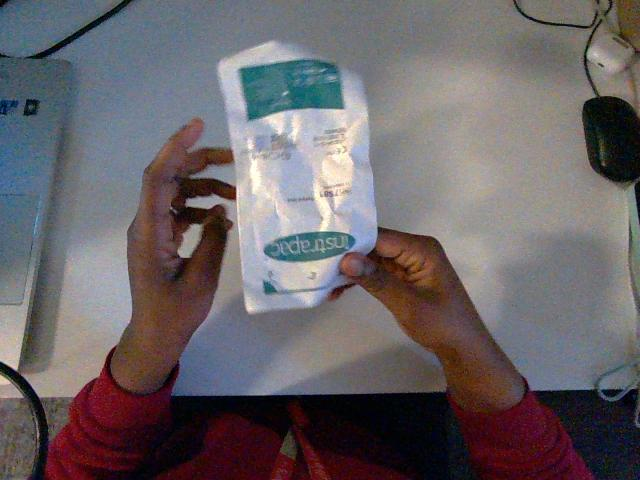gallipot: (219, 42, 376, 312)
